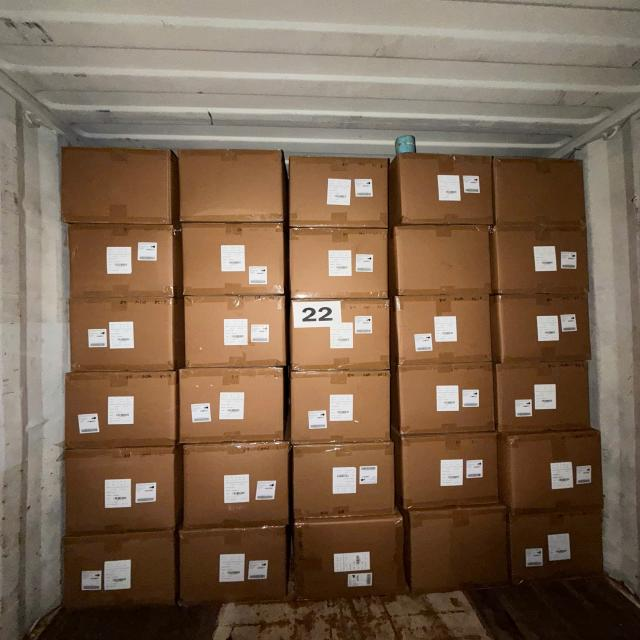Carton: (290, 520, 408, 600), (180, 444, 289, 528), (58, 144, 172, 223), (64, 451, 176, 531), (60, 535, 178, 610), (177, 365, 288, 442), (175, 147, 286, 223), (177, 222, 288, 298), (68, 373, 179, 448), (177, 532, 292, 604), (290, 440, 396, 518), (505, 508, 611, 586), (66, 295, 172, 372), (180, 294, 289, 366), (405, 508, 504, 587), (505, 433, 603, 512), (65, 223, 174, 294), (284, 228, 393, 298), (494, 361, 598, 434), (285, 153, 386, 227), (287, 298, 389, 369), (288, 373, 394, 441), (391, 224, 493, 294), (398, 434, 497, 506), (490, 224, 590, 294), (394, 153, 493, 223), (395, 294, 495, 363), (496, 292, 590, 362), (396, 362, 490, 432), (491, 156, 583, 227)
